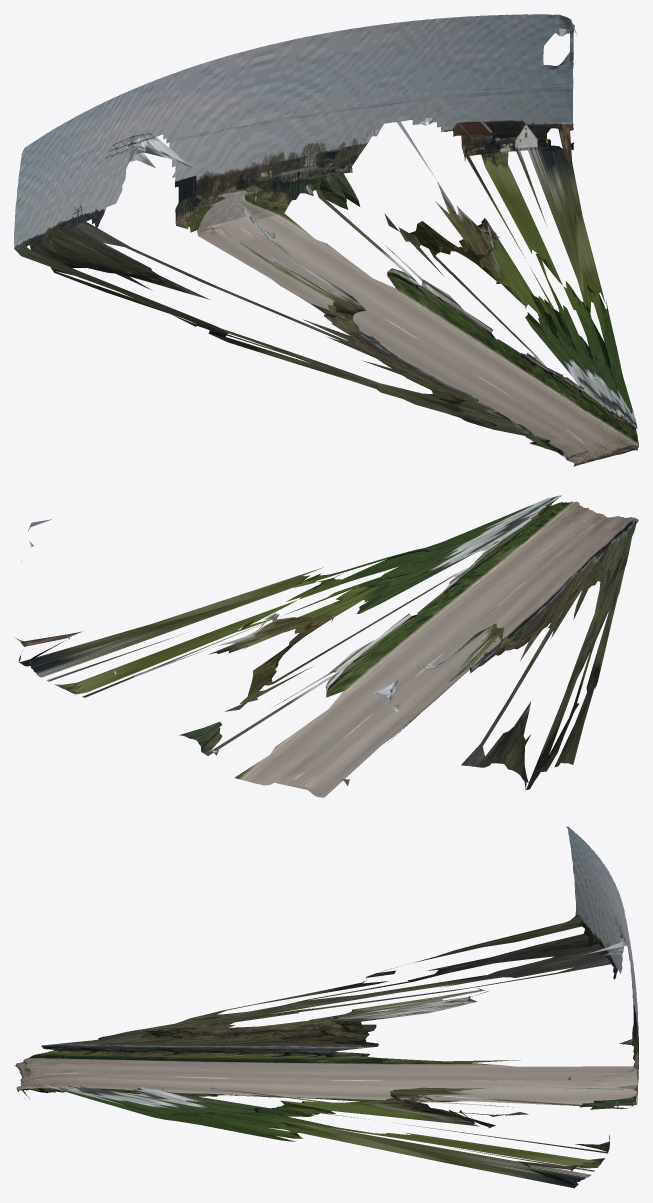
The picture shows the model from 3 angles, top to bottom: view 1: azimuth 30°, elevation 25°; view 2: azimuth 150°, elevation 25°; view 3: azimuth 270°, elevation 25°; orthographic projection. The views are drawn at different scales.
Parts seen in each view (by area): view 1: defaultobject; view 2: defaultobject; view 3: defaultobject.
Boxes of the visible parts, left/top/right/bottom form: defaultobject: left=14, top=14, right=638, bottom=466; defaultobject: left=15, top=495, right=638, bottom=797; defaultobject: left=14, top=826, right=638, bottom=1188.
Size of the model in its own units: 41.12 by 12.55 by 44.6.
Materials: 1 (1 with a texture image).
